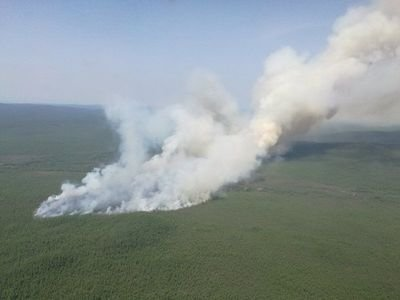smoke: (35, 71, 261, 218), (259, 1, 400, 149)
